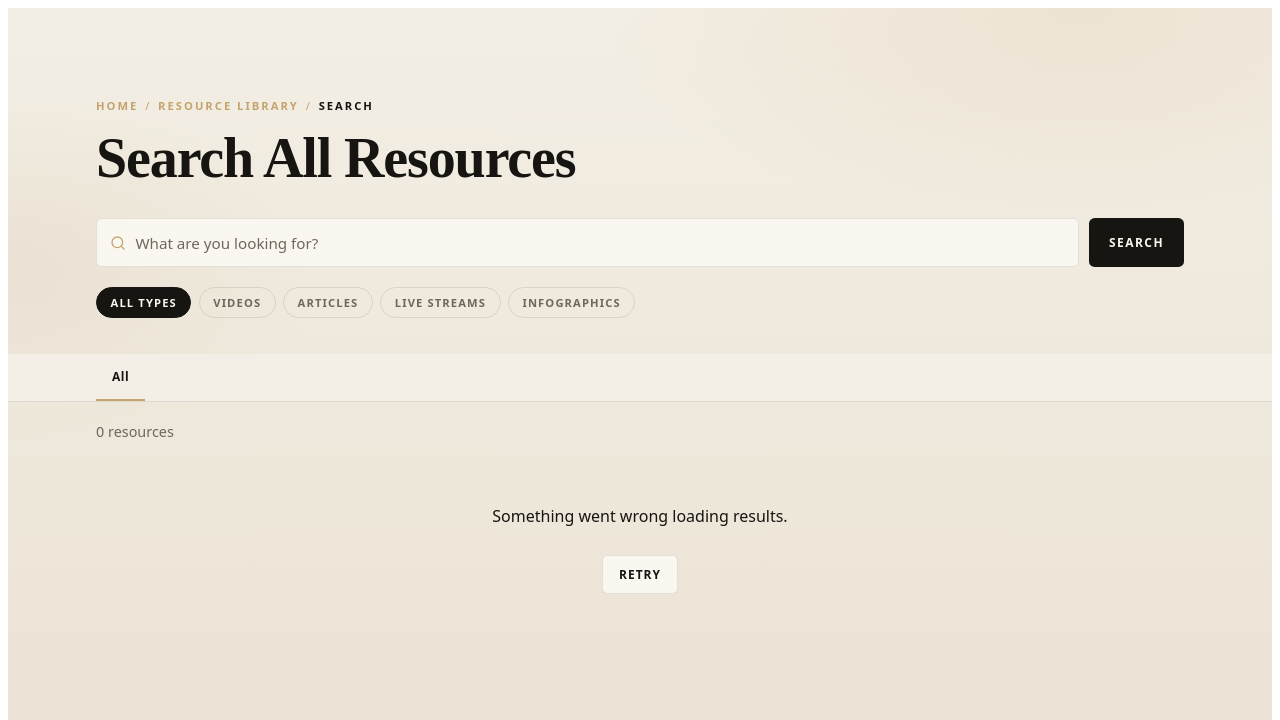
Test: /library/search mount › SS12 error then retry → empty
This screenshot has width=1280, height=720.
Expected: the text "Something went wrong loading results." is shown, [492,505,788,527]
Click the button "Retry".
click(640, 575)  # box [602,555,678,594]
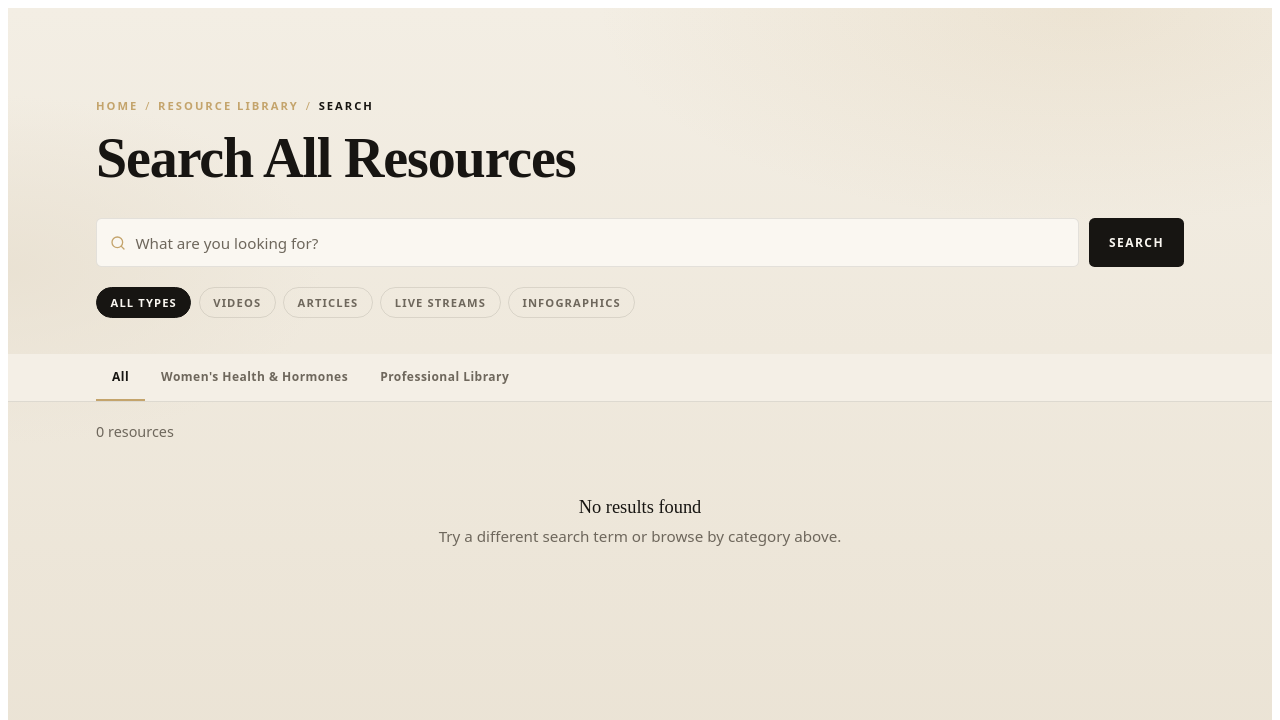
Expected: the text "No results found" is shown, [579,497,701,517]
